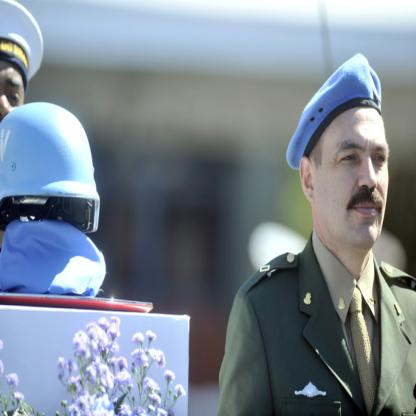Helmet: (0, 103, 103, 234)
